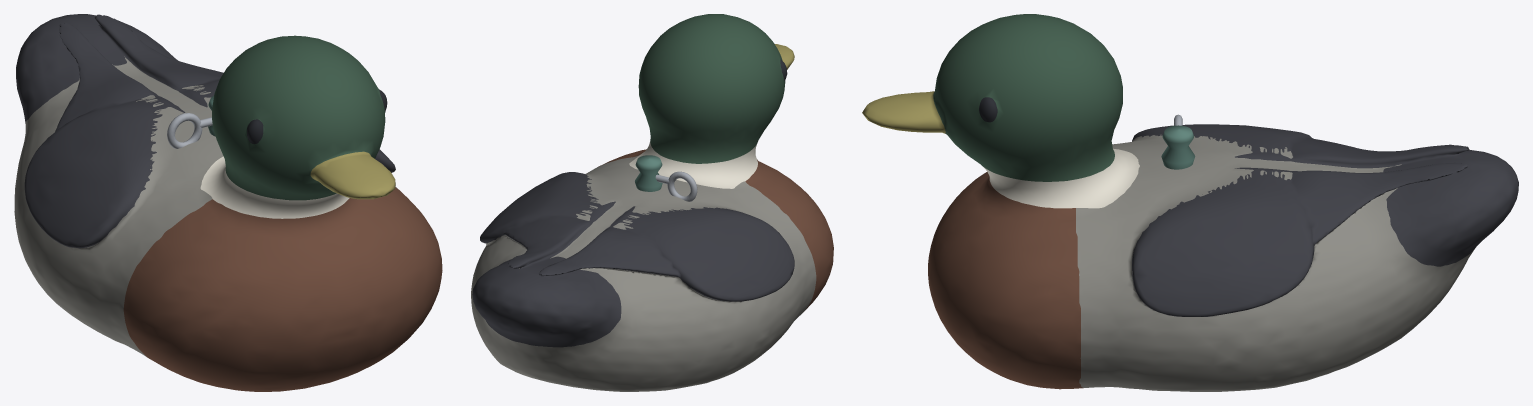
File: skins_fix27.glb
3 renders of one model, left to right at view 1: azimuth 30°, elevation 25°; view 2: azimuth 150°, elevation 25°; view 3: azimuth 270°, elevation 25°, orthographic. The views are drawn at different scales.
Parts seen in each view (by area): view 1: duck@decoy_breast__p6c4b3c, duck@decoy_wings__p3c3d44, duck@decoy_head__p3f5a4a, duck@decoy_body__p8b8a84, duck@decoy_tail__p3c3d44, duck@decoy_neck__pdcd8cc, duck@decoy_bill__p9c935a, smoke@censer_ring__pa3a8b0, duck@decoy_eye__p2b2d33; view 2: duck@decoy_body__p8b8a84, duck@decoy_wings__p3c3d44, duck@decoy_head__p3f5a4a, duck@decoy_tail__p3c3d44, duck@decoy_breast__p6c4b3c, duck@decoy_neck__pdcd8cc, smoke@censer_finial__p5d8178, smoke@censer_ring__pa3a8b0; view 3: duck@decoy_body__p8b8a84, duck@decoy_wings__p3c3d44, duck@decoy_head__p3f5a4a, duck@decoy_breast__p6c4b3c, duck@decoy_tail__p3c3d44, duck@decoy_neck__pdcd8cc, duck@decoy_bill__p9c935a, smoke@censer_finial__p5d8178.
Part boxes in pixels (<box>): duck@decoy_breast__p6c4b3c: <box>123,187,442,391</box>; duck@decoy_wings__p3c3d44: <box>24,14,395,248</box>; duck@decoy_head__p3f5a4a: <box>212,35,385,200</box>; duck@decoy_body__p8b8a84: <box>14,56,397,356</box>; duck@decoy_tail__p3c3d44: <box>16,14,178,122</box>; duck@decoy_neck__pdcd8cc: <box>200,156,349,218</box>; duck@decoy_bill__p9c935a: <box>310,151,395,199</box>; smoke@censer_ring__pa3a8b0: <box>167,113,202,148</box>; duck@decoy_eye__p2b2d33: <box>247,89,387,143</box>; duck@decoy_body__p8b8a84: <box>471,155,816,391</box>; duck@decoy_wings__p3c3d44: <box>480,172,794,301</box>; duck@decoy_head__p3f5a4a: <box>638,14,785,163</box>; duck@decoy_tail__p3c3d44: <box>472,256,621,347</box>; duck@decoy_breast__p6c4b3c: <box>598,149,833,312</box>; duck@decoy_neck__pdcd8cc: <box>629,141,757,188</box>; smoke@censer_finial__p5d8178: <box>635,155,662,191</box>; smoke@censer_ring__pa3a8b0: <box>667,171,697,201</box>; duck@decoy_body__p8b8a84: <box>1076,134,1474,391</box>; duck@decoy_wings__p3c3d44: <box>1132,124,1469,316</box>; duck@decoy_head__p3f5a4a: <box>933,14,1122,181</box>; duck@decoy_breast__p6c4b3c: <box>928,172,1083,389</box>; duck@decoy_tail__p3c3d44: <box>1383,149,1518,266</box>; duck@decoy_neck__pdcd8cc: <box>984,148,1139,208</box>; duck@decoy_bill__p9c935a: <box>862,91,945,133</box>; smoke@censer_finial__p5d8178: <box>1161,125,1195,169</box>.
Bounding box in the file's own units: 3.84 × 3.8 × 6.6.
